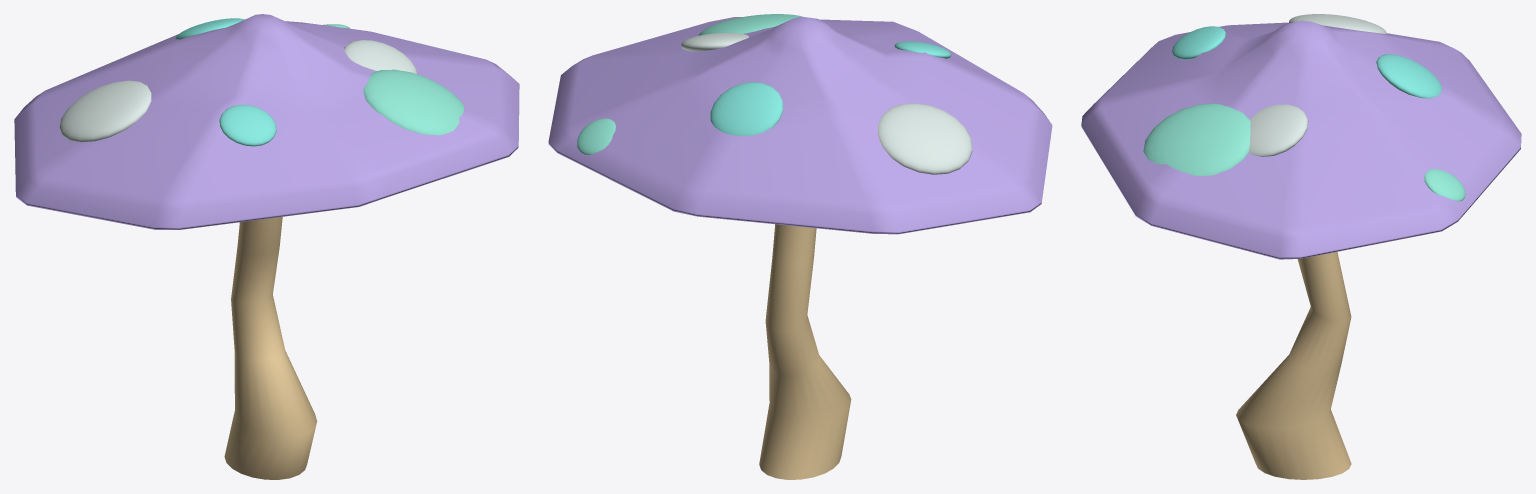
File: Mush5.fbx
3 renders of one model, left to right at view 1: azimuth 30°, elevation 25°; view 2: azimuth 150°, elevation 25°; view 3: azimuth 270°, elevation 25°, orthographic.
Visible parts, largest first — view 1: group4_pasted__pSphere13; view 2: group4_pasted__pSphere13; view 3: group4_pasted__pSphere13.
Boxes of the visible parts, x1,y1,x2,y2 form: group4_pasted__pSphere13: (14, 14, 519, 479); group4_pasted__pSphere13: (548, 14, 1052, 479); group4_pasted__pSphere13: (1081, 14, 1521, 479).
Size of the model in its own units: 0.4678 by 0.4105 by 0.3731.
